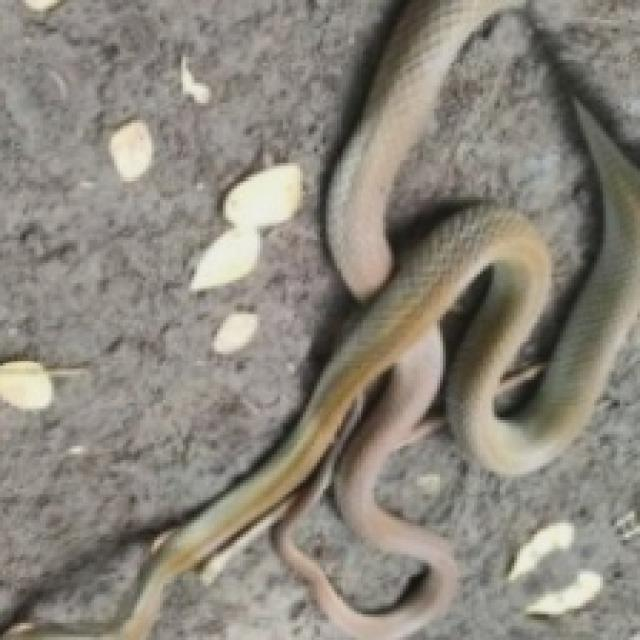reddish rat snake: (4, 0, 640, 640)
